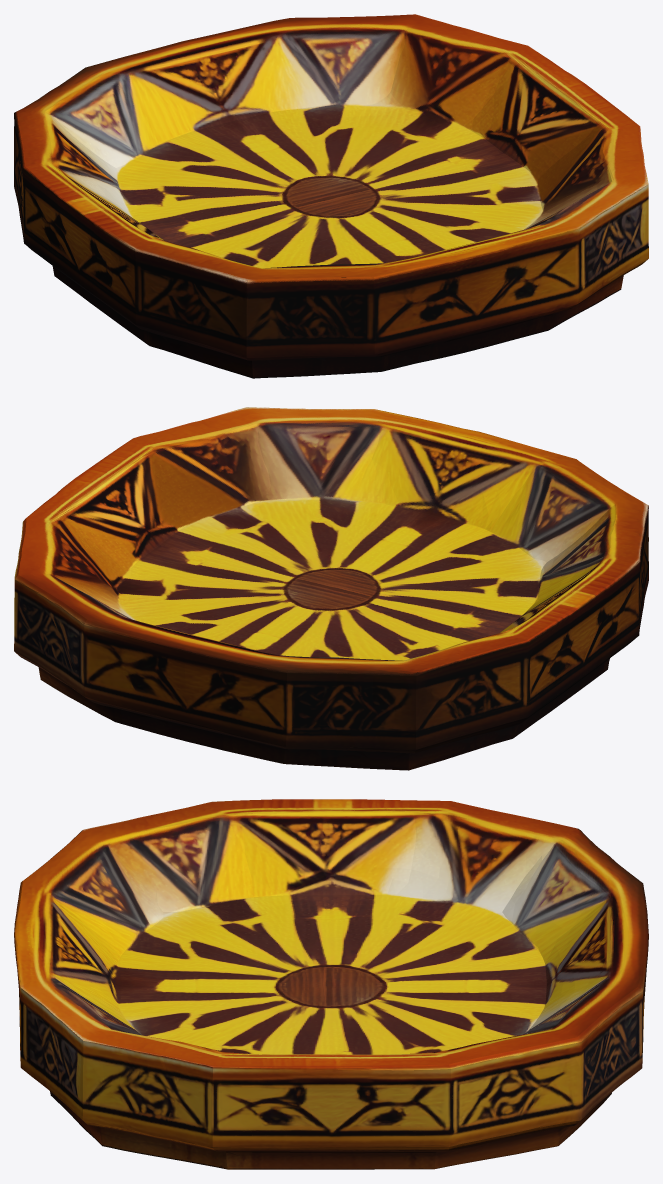
File: wooden-soap-dish-art-deco.jpeg.glb
3 renders of one model, top to bottom at view 1: azimuth 30°, elevation 25°; view 2: azimuth 150°, elevation 25°; view 3: azimuth 270°, elevation 25°, orthographic. The views are drawn at different scales.
Parts seen in each view (by area): view 1: world; view 2: world; view 3: world.
Boxes of the visible parts, x1,y1,x2,y2 form: world: [14, 14, 648, 378]; world: [14, 407, 648, 770]; world: [14, 799, 648, 1169].
Size of the model in its own units: 0.9998 by 0.2056 by 0.9999.
Materials: 1 (1 with a texture image).
